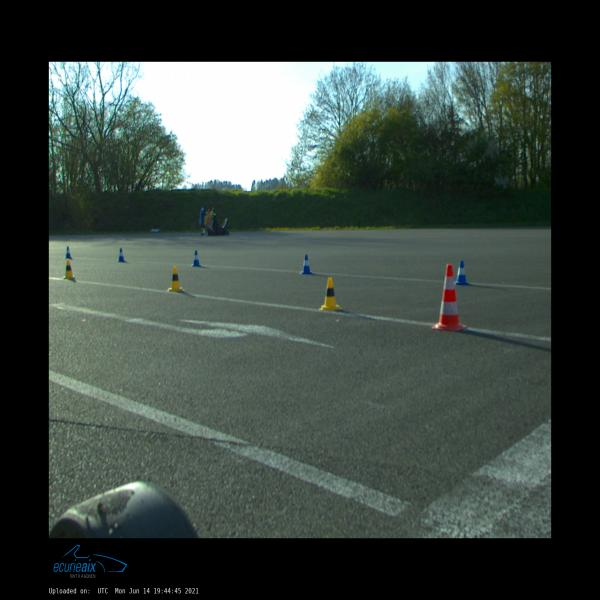blue_cone: (454, 260, 470, 285), (300, 255, 314, 274), (192, 251, 202, 267), (117, 248, 126, 262), (65, 246, 72, 259), (200, 207, 204, 213)
large_orange_cone: (432, 264, 466, 331)
yellow_cone: (319, 278, 342, 310), (166, 266, 184, 292), (63, 260, 75, 280), (204, 212, 209, 218), (210, 207, 214, 214)
